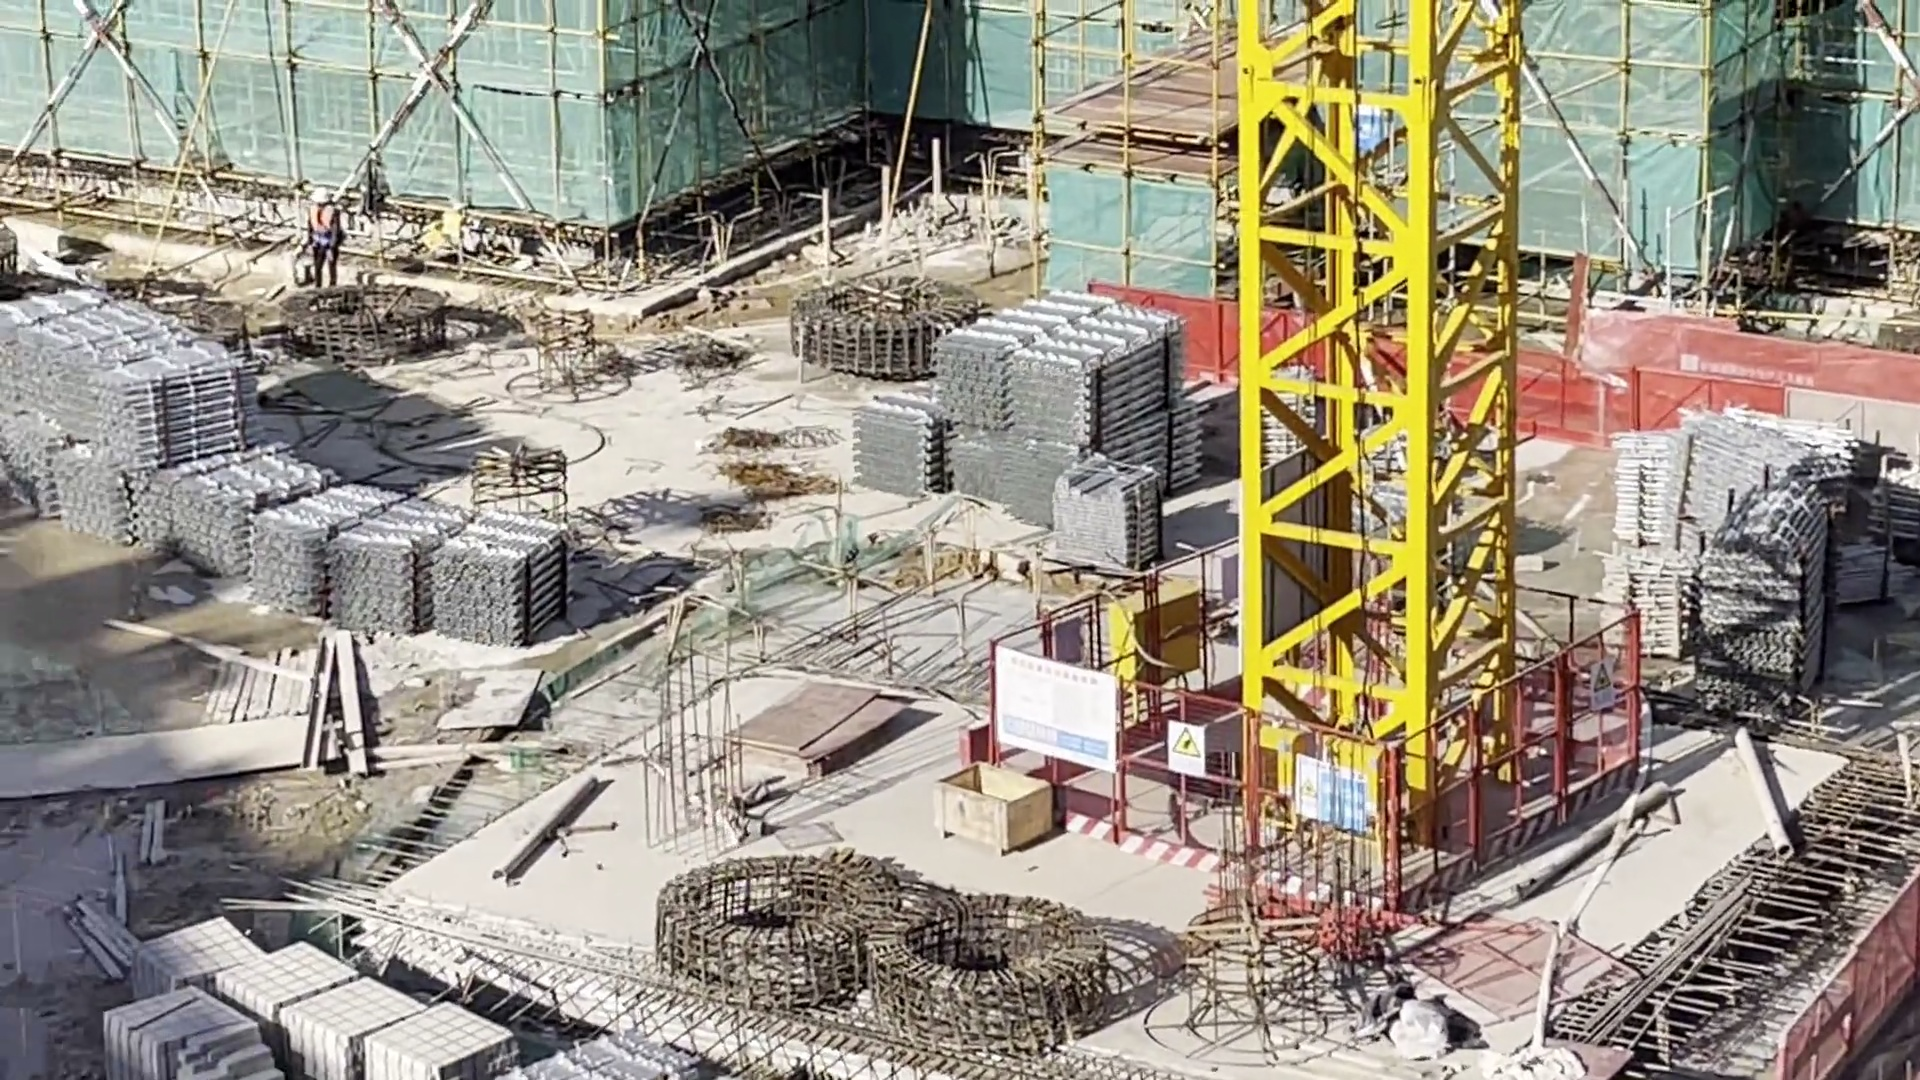ebox: (1246, 712, 1379, 837), (1098, 586, 1201, 689)
fence: (1404, 614, 1678, 912), (1014, 656, 1293, 887), (1159, 306, 1671, 426), (1691, 321, 1920, 435), (1776, 898, 1920, 1059)
helmet: (305, 187, 333, 204)
person: (303, 185, 349, 278)
rebar: (1579, 895, 1756, 1053)
scaffold: (941, 322, 1164, 479), (1704, 402, 1823, 672), (1, 314, 156, 484), (74, 374, 229, 524), (1613, 449, 1693, 639), (181, 452, 319, 542), (1829, 444, 1920, 579), (354, 494, 441, 621), (459, 516, 563, 619), (271, 489, 374, 579), (1074, 459, 1149, 559), (856, 391, 916, 484)
vest: (306, 206, 339, 251)
